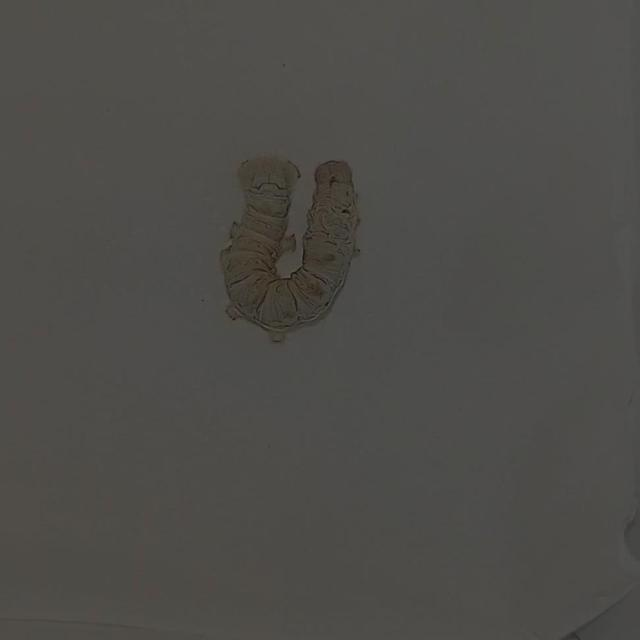Healthy: (211, 142, 370, 353)
